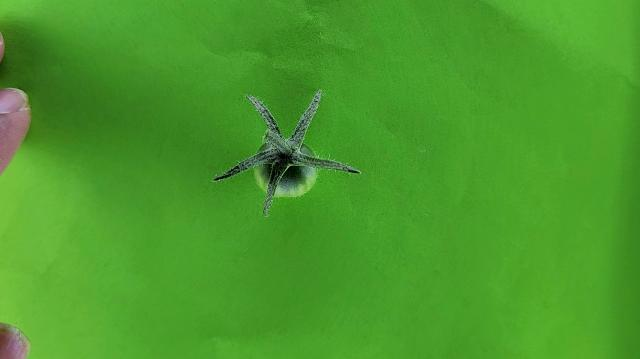Fruit Maturation: (253, 139, 317, 197), (252, 141, 318, 197)
